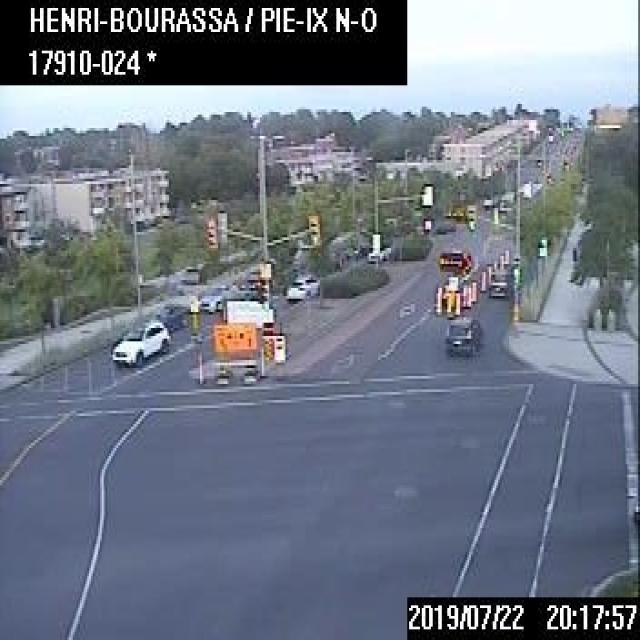construction: (195, 298, 273, 384), (434, 248, 471, 309), (434, 283, 441, 312), (452, 289, 460, 313), (462, 280, 469, 305), (478, 268, 485, 290), (470, 278, 476, 300), (502, 246, 508, 264), (497, 252, 503, 266), (484, 262, 490, 272)
vehicle: (109, 318, 169, 366), (442, 312, 480, 355), (197, 280, 234, 312), (284, 272, 320, 299), (154, 302, 188, 329), (486, 269, 509, 299), (464, 200, 476, 219)
